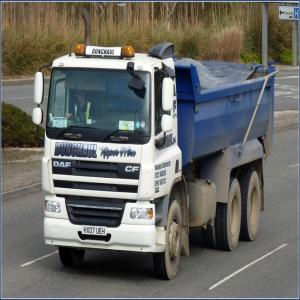Vehicle-registration-plate: (83, 226, 108, 238)
